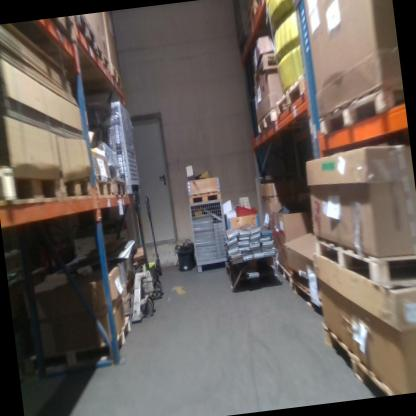pallet: (320, 312, 396, 401), (23, 312, 135, 372), (314, 230, 416, 294), (315, 84, 408, 139), (0, 158, 63, 209), (271, 69, 311, 120), (57, 163, 94, 205), (288, 263, 325, 298), (250, 50, 282, 87), (291, 278, 323, 315), (71, 13, 98, 56), (92, 170, 115, 203), (254, 106, 279, 134), (114, 270, 139, 298), (93, 38, 111, 75), (119, 282, 139, 313), (51, 16, 74, 41), (187, 190, 221, 206), (275, 257, 291, 291), (108, 57, 123, 91), (113, 173, 128, 200)
pallet_truck: (97, 176, 160, 327), (139, 185, 168, 302)
small_load_carrier: (174, 240, 195, 270)
stillage: (81, 93, 142, 200), (186, 197, 232, 271)
